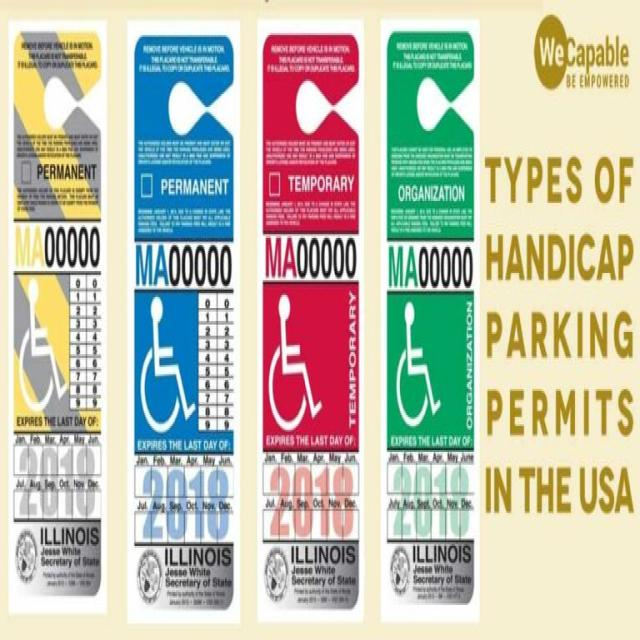symbol_of_access: (266, 286, 328, 430), (135, 294, 196, 428), (389, 298, 444, 437), (15, 275, 70, 410)
